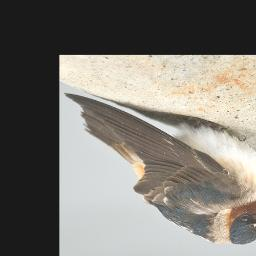Swallow: (63, 92, 256, 245)
